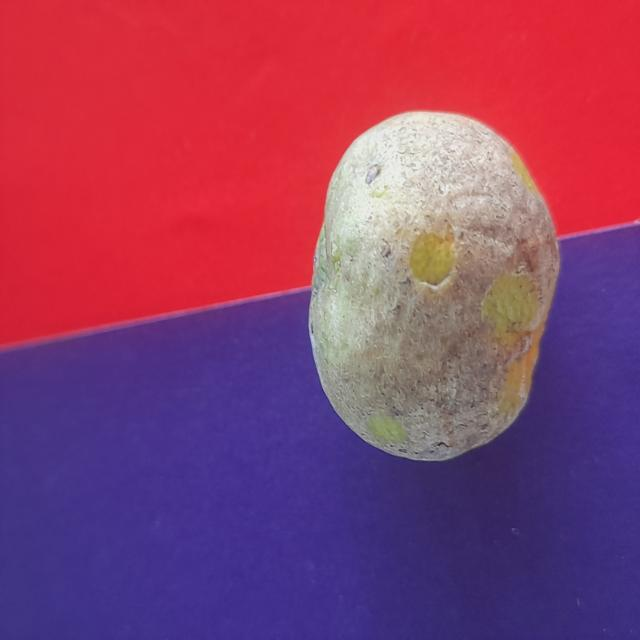thrips: (304, 100, 560, 467)
